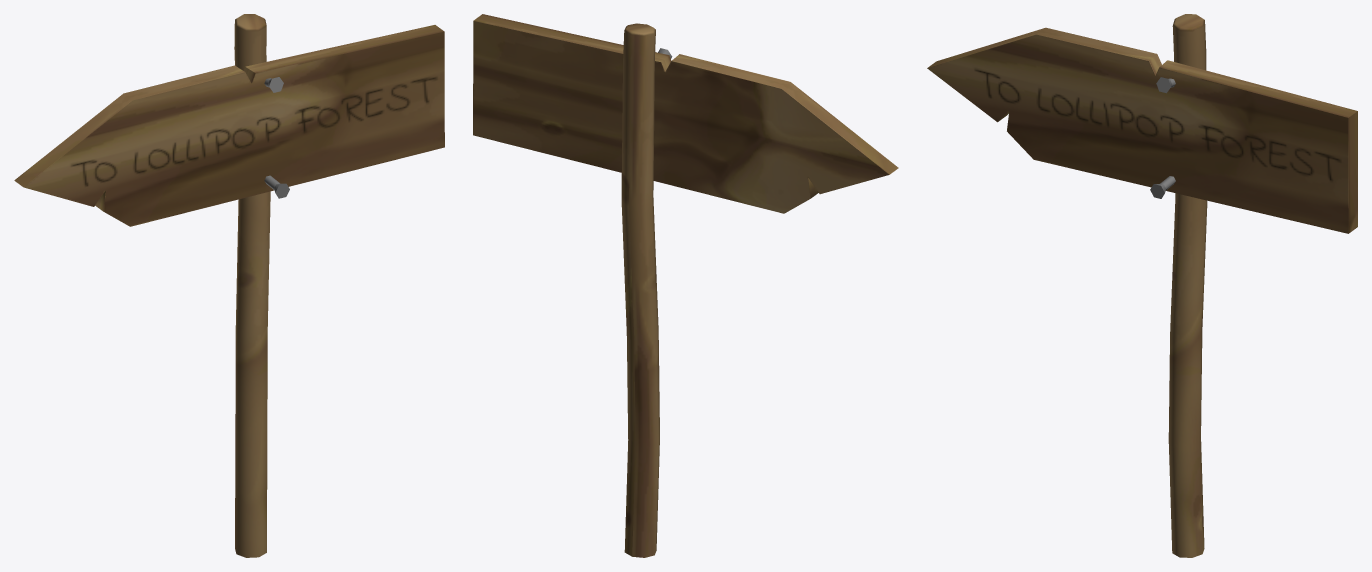
Rendered from SignToLollipopForest.fbx.
The picture shows the model from 3 angles, left to right: view 1: azimuth 30°, elevation 25°; view 2: azimuth 150°, elevation 25°; view 3: azimuth 330°, elevation 25°; orthographic projection.
Parts seen in each view (by area): view 1: SignToLollipopForest; view 2: SignToLollipopForest; view 3: SignToLollipopForest.
Boxes of the visible parts, bbox=[...] form: SignToLollipopForest: bbox=[14, 14, 444, 557]; SignToLollipopForest: bbox=[473, 14, 898, 557]; SignToLollipopForest: bbox=[927, 14, 1357, 557].
Size of the model in its own units: 73.15 by 88.23 by 12.28.
